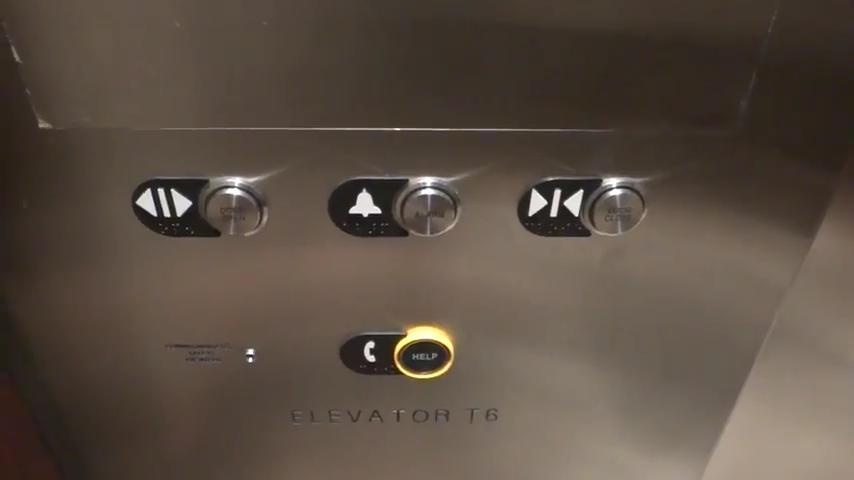alarm: (326, 173, 465, 238)
call: (338, 322, 453, 386)
close: (516, 173, 653, 237)
open: (130, 173, 274, 241)
